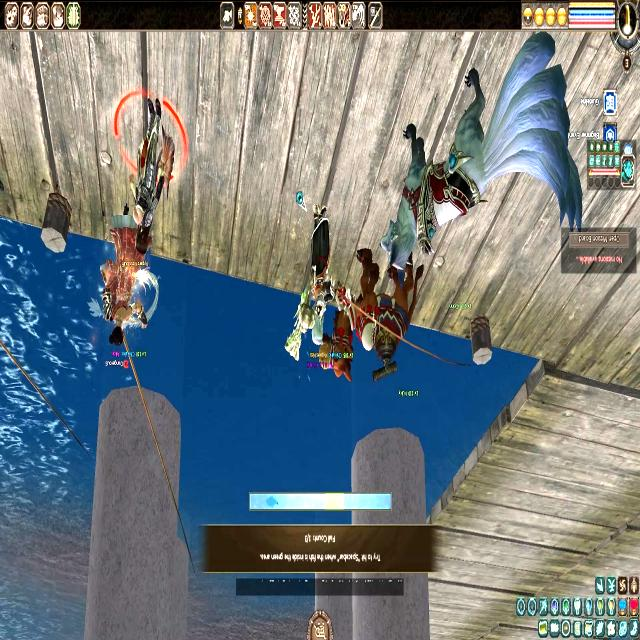fishes: (265, 495, 279, 508)
